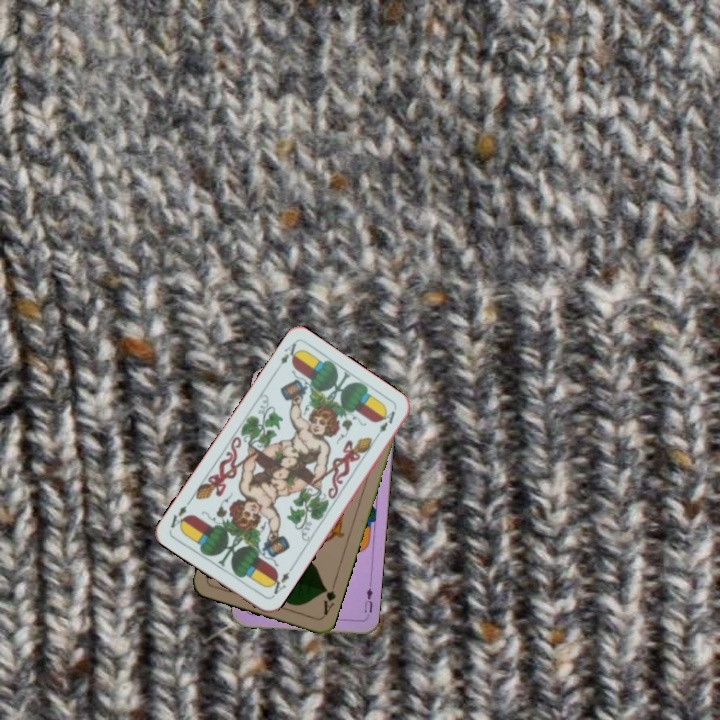EA: (271, 339, 302, 375), (265, 564, 295, 600)
EU: (360, 584, 375, 621)
GA: (319, 583, 338, 618)
